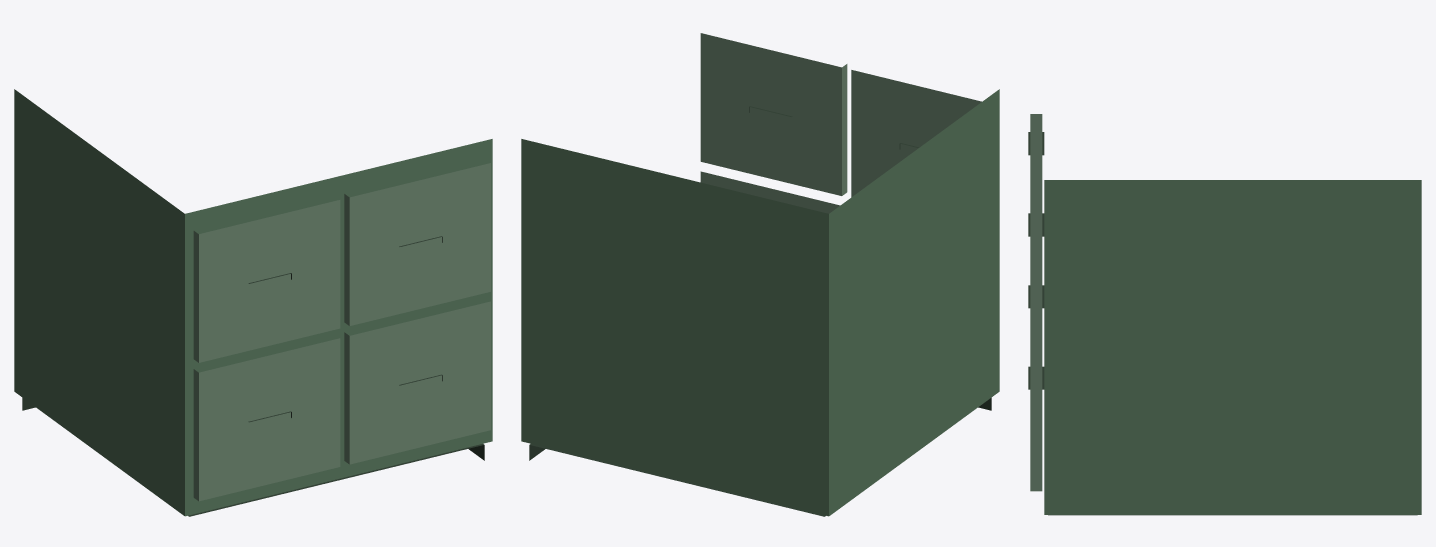
Rendered from Storage-green.glb.
3 renders of one model, left to right at view 1: azimuth 30°, elevation 25°; view 2: azimuth 150°, elevation 25°; view 3: azimuth 270°, elevation 25°, orthographic. The views are drawn at different scales.
Parts seen in each view (by area): view 1: Storage; view 2: Storage; view 3: Storage.
Part boxes in pixels (x1,y1,x2,y2): Storage: (14,89,492,516); Storage: (521,33,999,516); Storage: (1028,114,1421,515).
Bounding box in the file's own units: 1 × 1 × 1.
